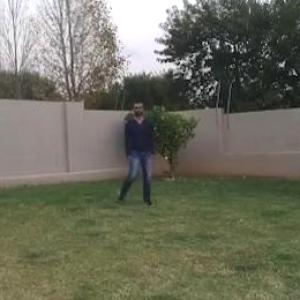follow: (126, 98, 151, 201)
